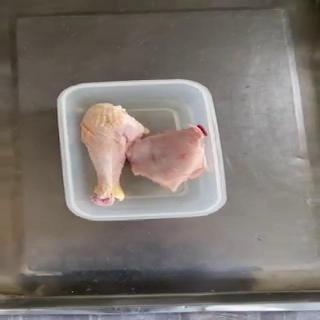Ayam: (80, 102, 210, 208)
